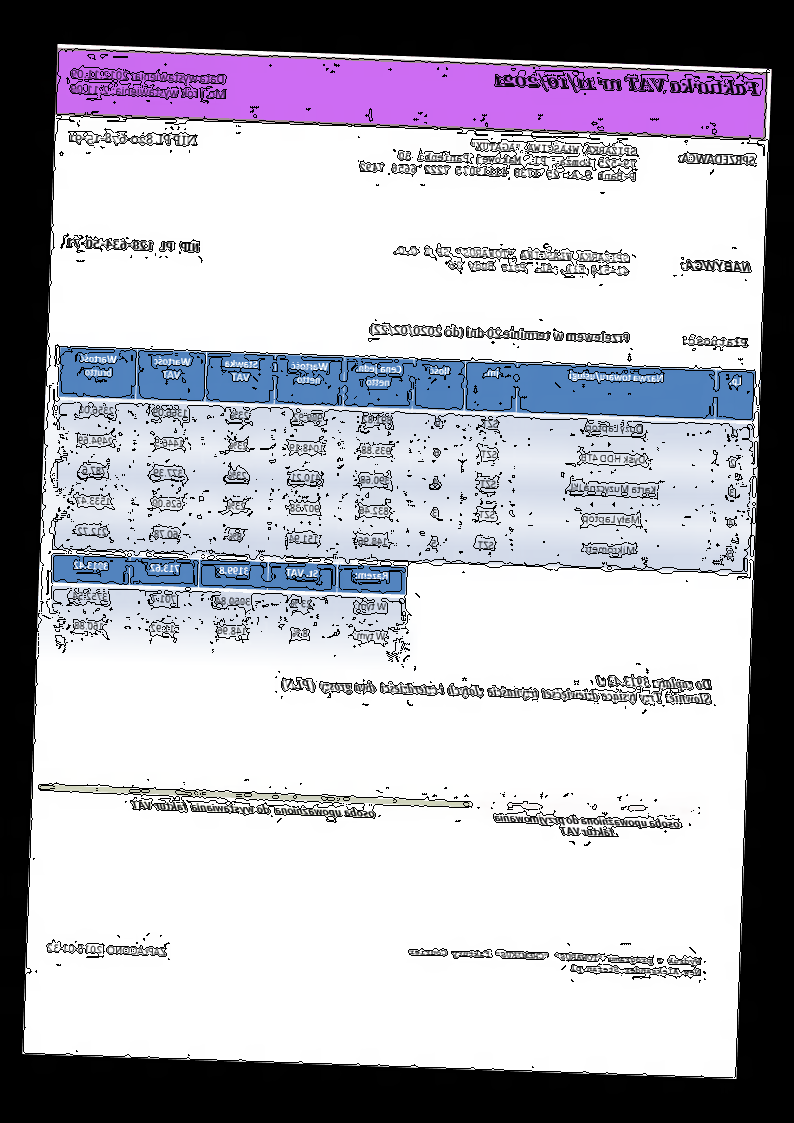Table: (52, 344, 758, 574), (49, 553, 408, 658)
TextBox: (279, 661, 715, 709), (358, 134, 641, 184), (406, 945, 705, 980), (390, 242, 633, 278), (493, 68, 762, 99), (368, 322, 632, 347), (127, 797, 378, 822), (493, 809, 683, 841), (67, 65, 230, 101), (65, 234, 202, 255), (68, 129, 201, 150), (45, 940, 170, 961), (677, 149, 758, 167), (680, 331, 750, 350), (680, 256, 753, 274)
